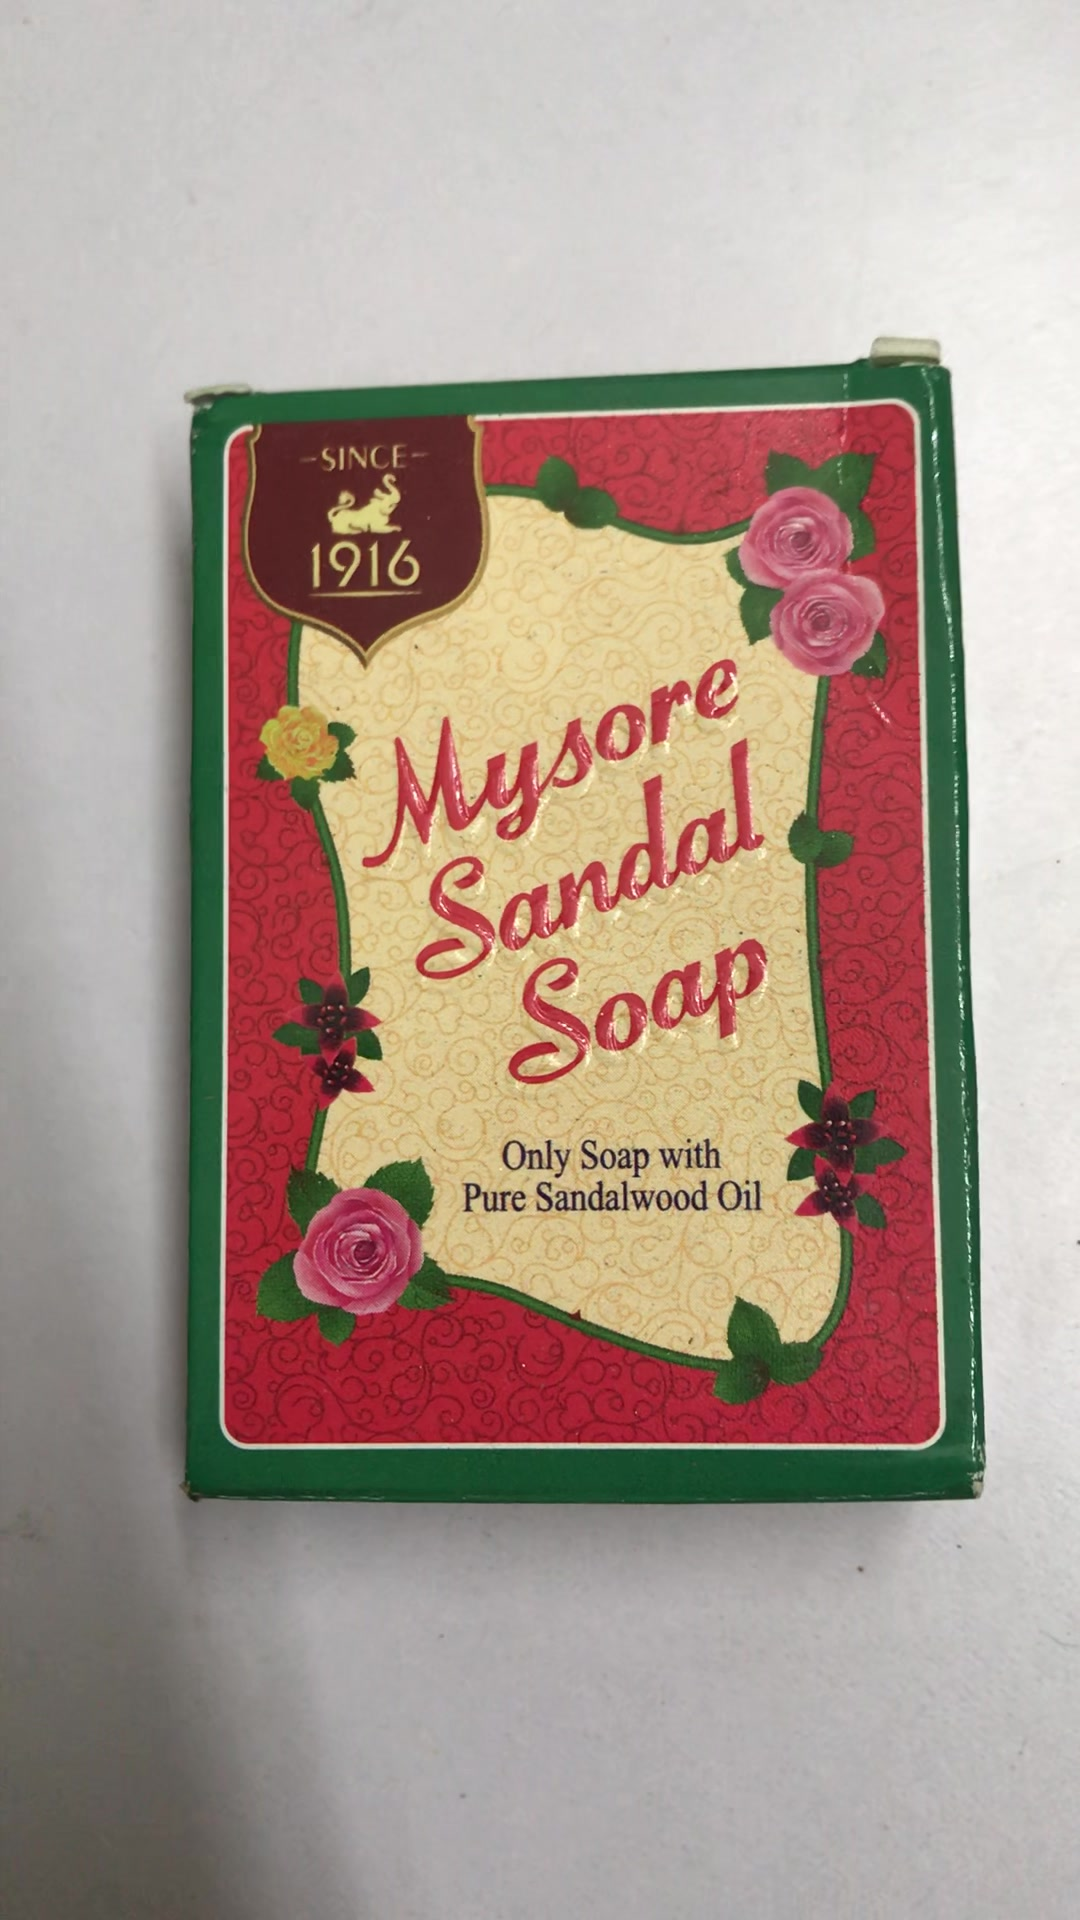mysore sandal soap: (195, 361, 975, 1505)
